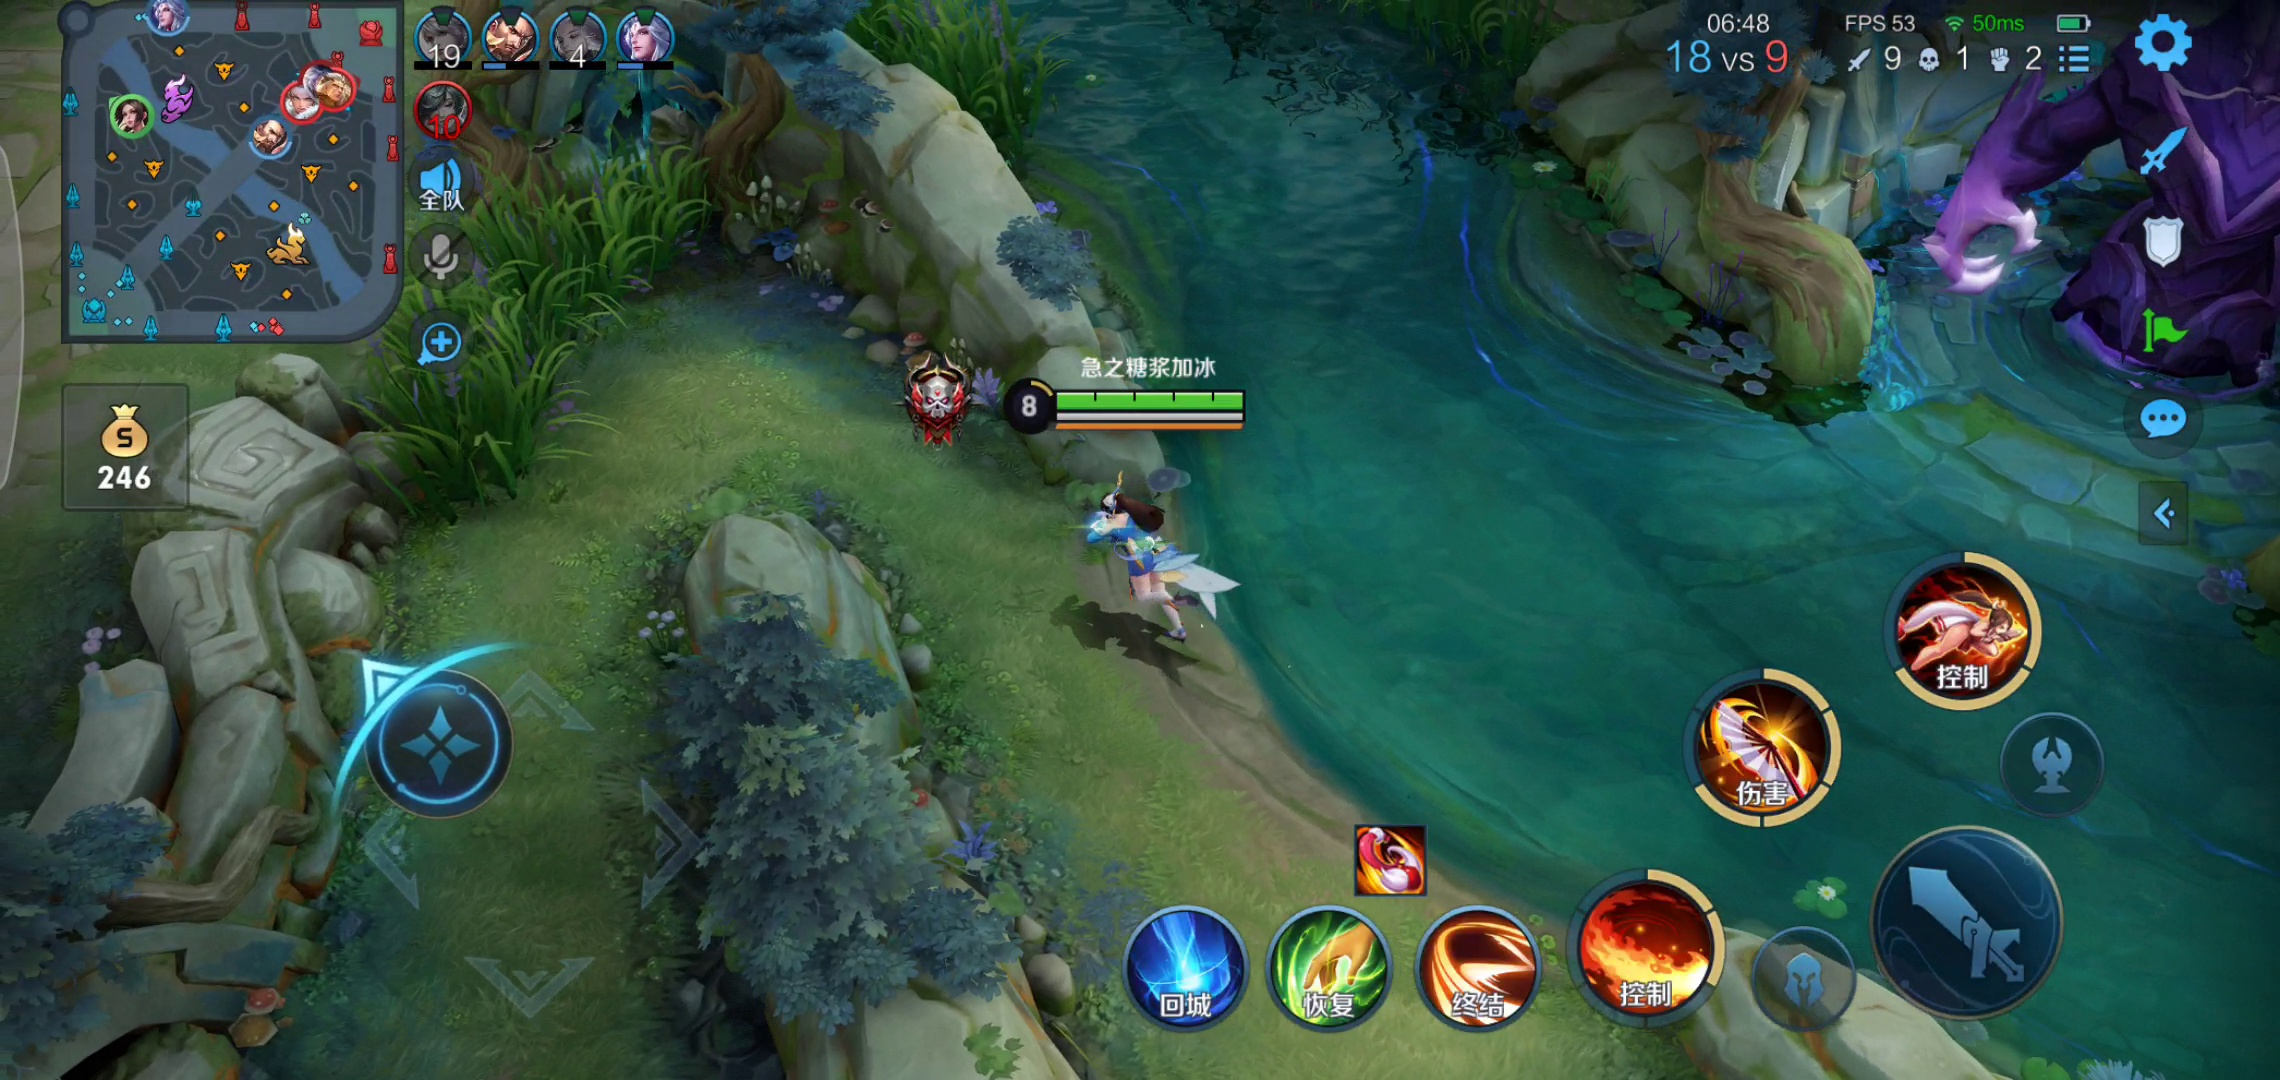dragon: (1948, 9, 2279, 395)
grass: (348, 148, 726, 491), (875, 3, 1072, 186)
hero: (1064, 454, 1248, 669)
